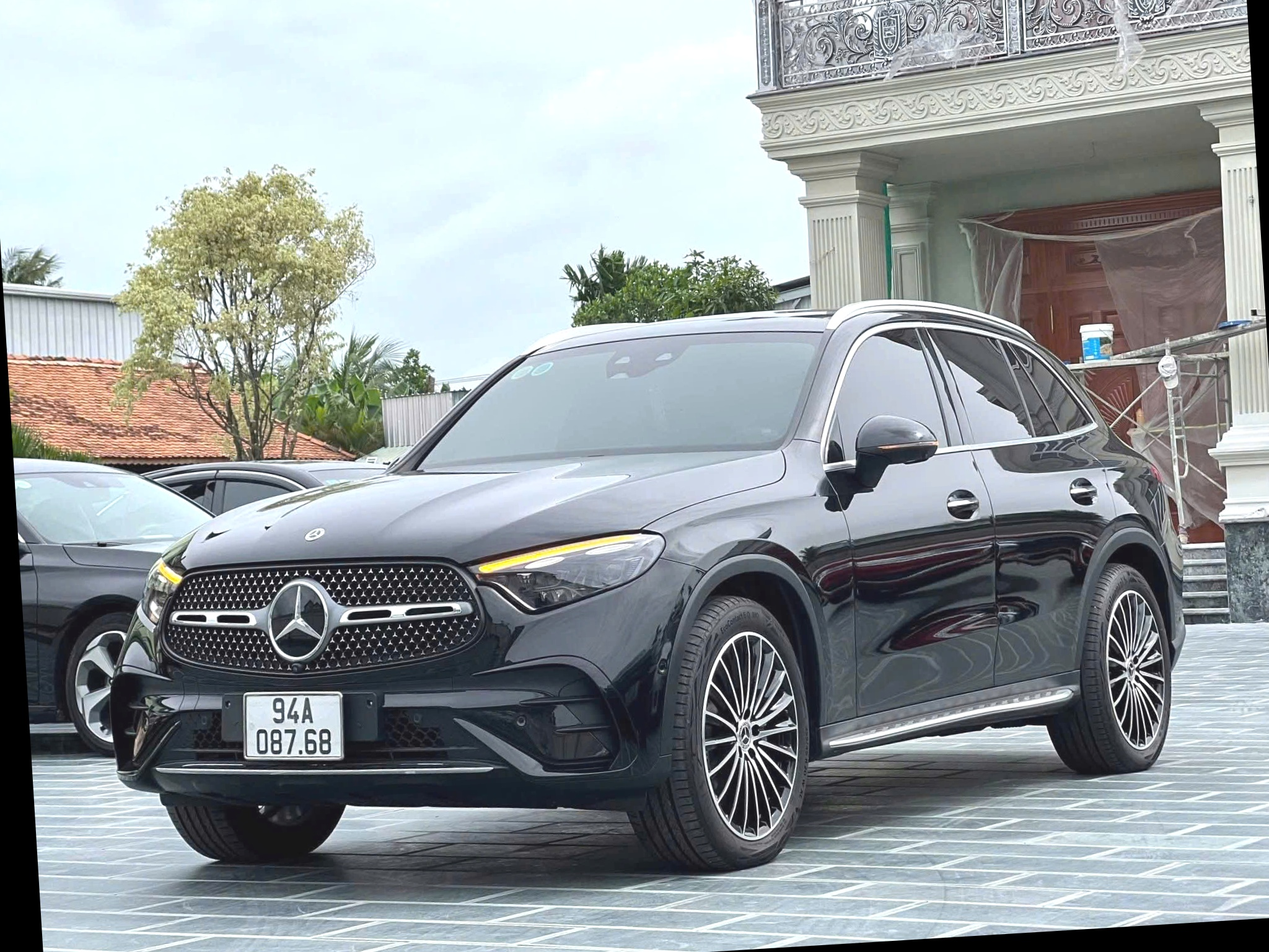Bien-so: (201, 693, 309, 777)
